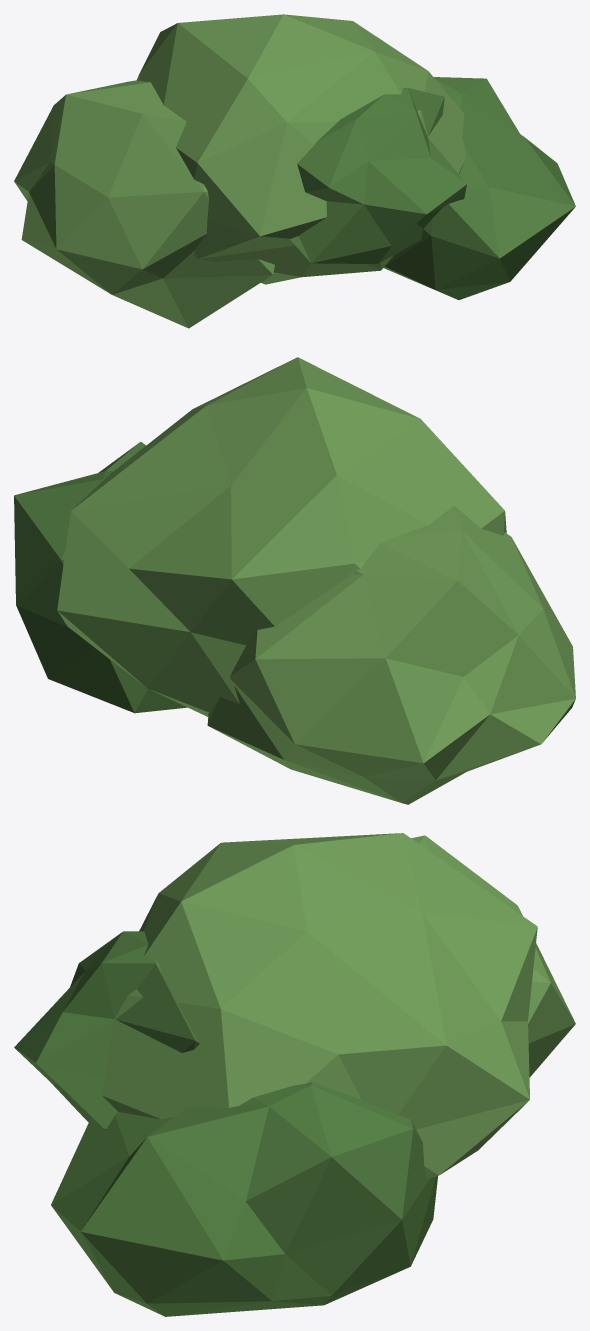
Rendered from Bush.glb.
3 views of the same model, one above another, from view 1: azimuth 30°, elevation 25°; view 2: azimuth 150°, elevation 25°; view 3: azimuth 270°, elevation 25° (orthographic). The views are drawn at different scales.
Visible parts, largest first — view 1: Bush; view 2: Bush; view 3: Bush.
Part boxes in pixels (x1=…): Bush: x1=14, y1=14, x2=575, y2=328; Bush: x1=14, y1=357, x2=575, y2=804; Bush: x1=14, y1=833, x2=575, y2=1316.
Bounding box in the file's own units: 1.11 × 0.6357 × 0.8604.
